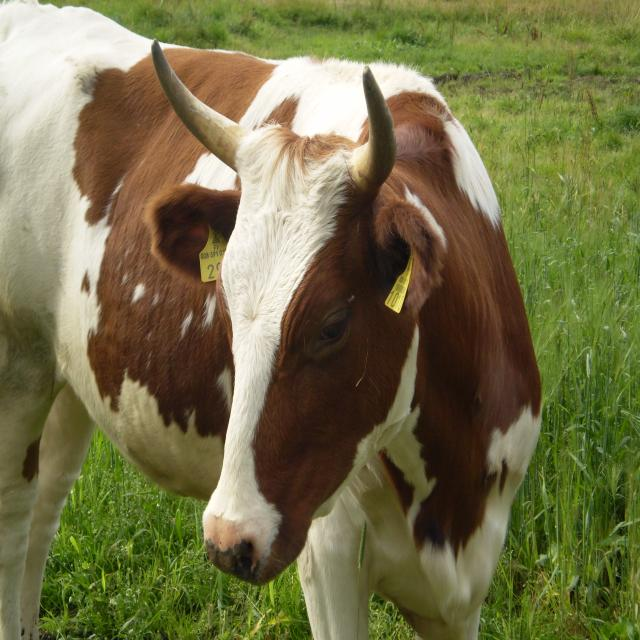cow: (0, 3, 541, 637)
